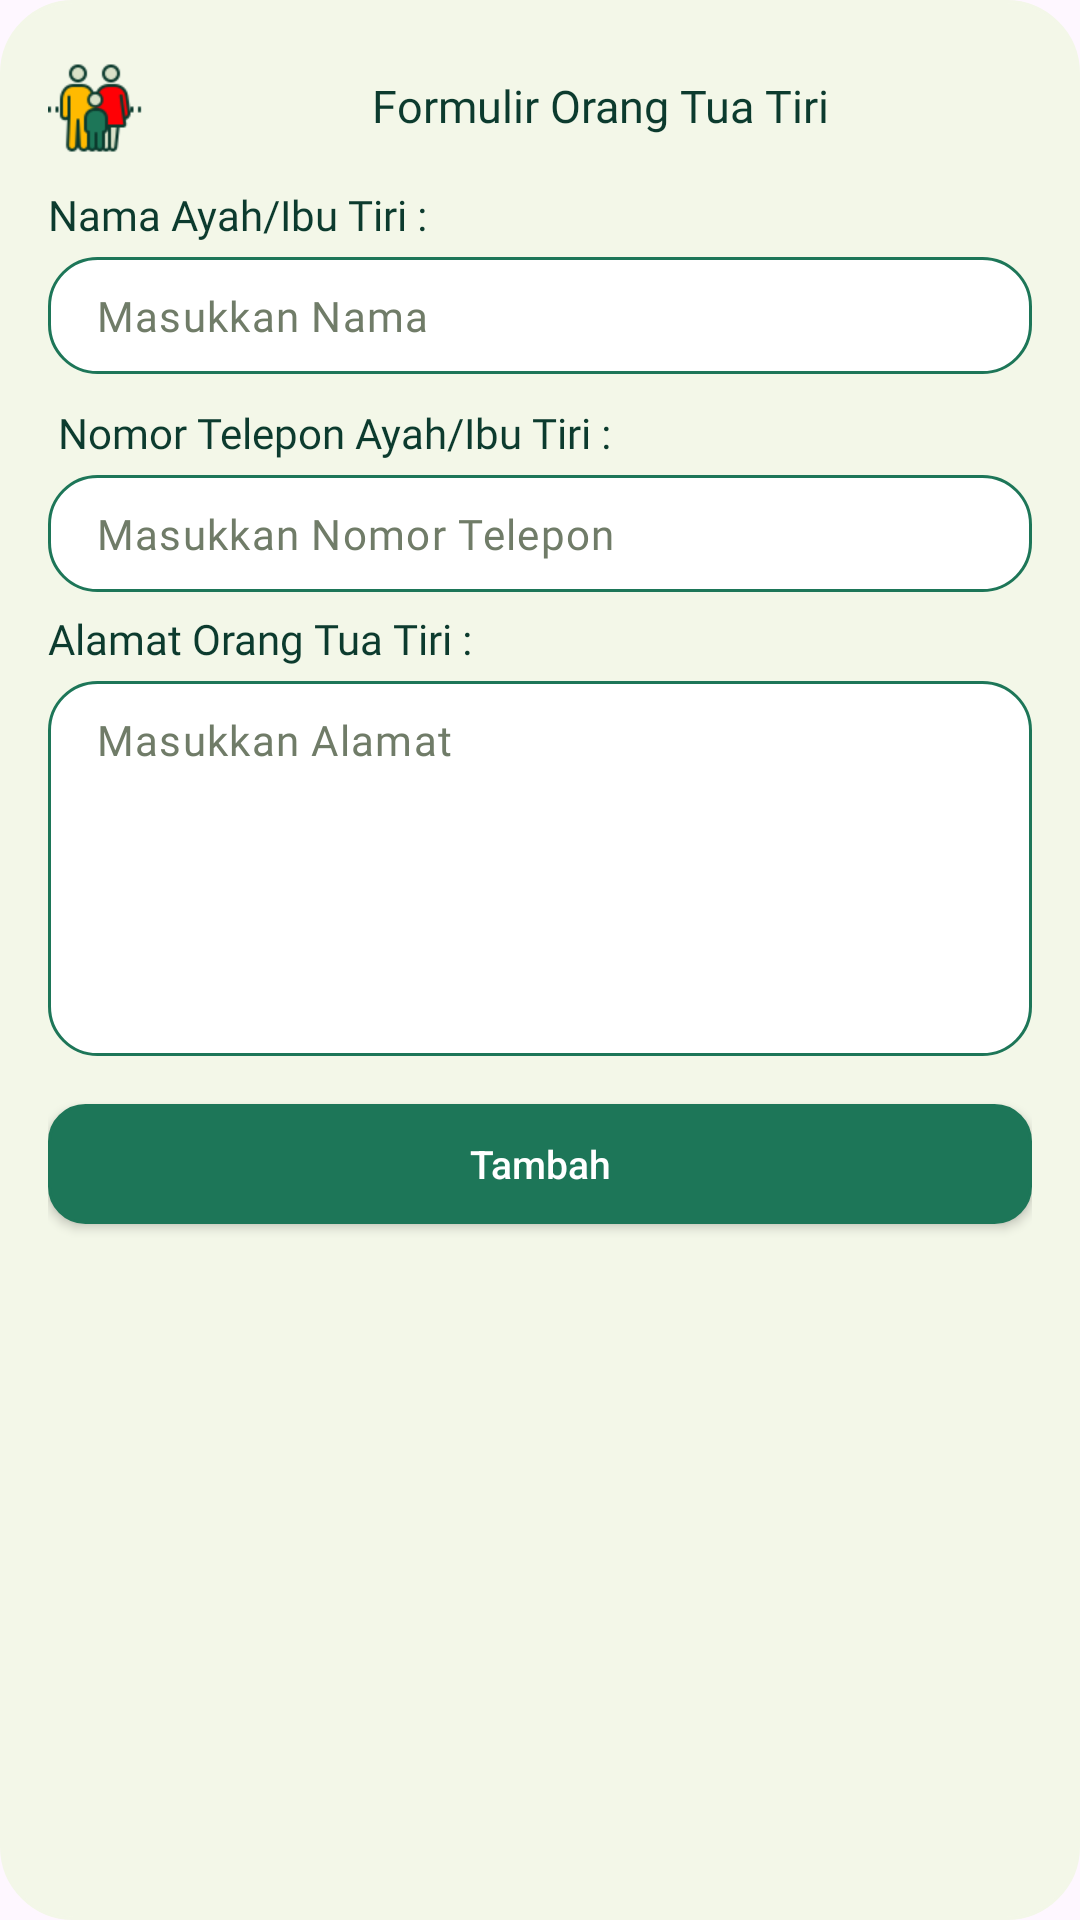

Icons on this 1080 x 1920 Android screen, each with its box as (x1, y1, x2, y2):
parent santri: (48, 64, 142, 152)
